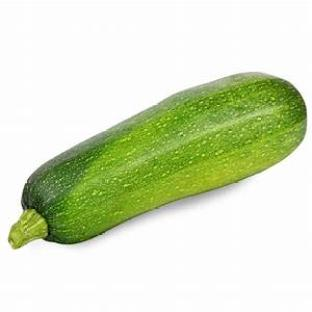Zucchini: (10, 73, 306, 248)
